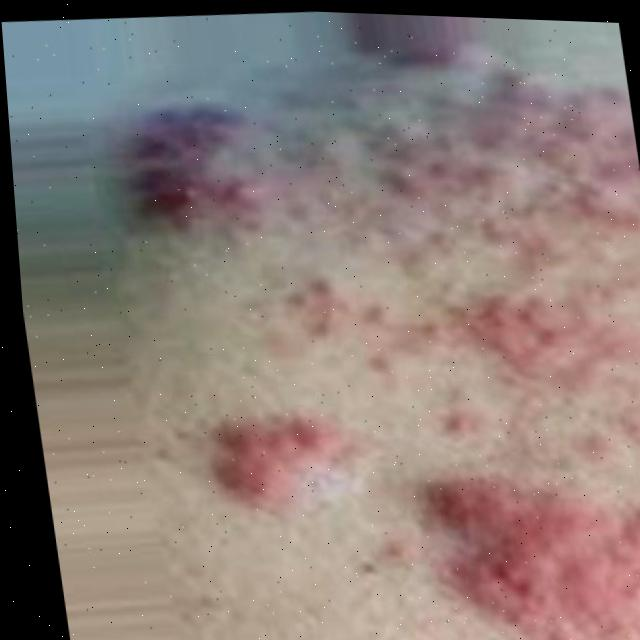Shingles: (347, 82, 640, 402), (443, 470, 640, 640), (124, 89, 262, 245), (220, 418, 338, 488)
